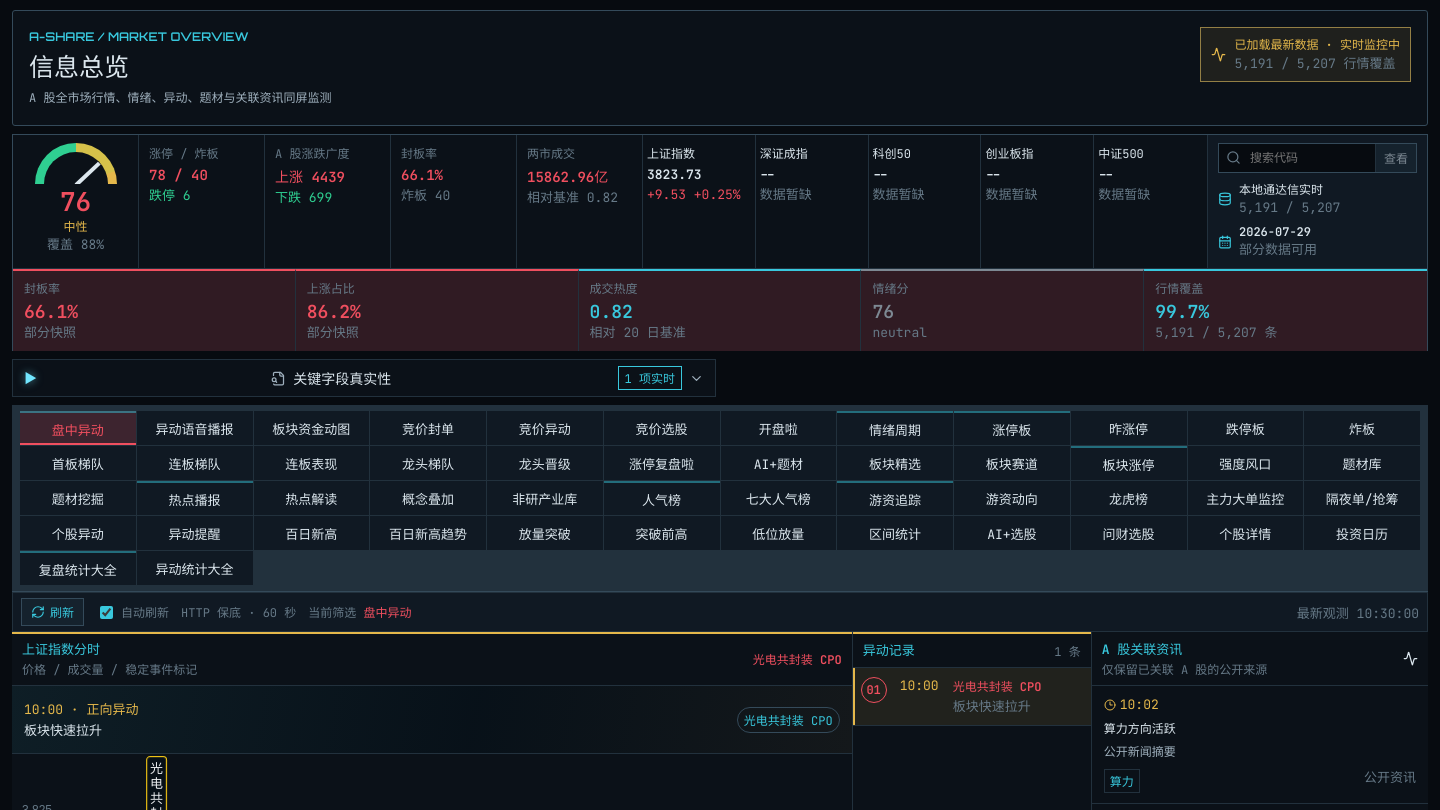
Test: MarketOverviewView › opens a real audio announcer for the voice broadcast menu
Expected: the text "本地通达信实时" is shown, x1=1239 y1=182 x2=1323 y2=198
Click the button "异动语音播报": click(195, 428) x1=137 y1=411 x2=253 y2=445
(page scrolled)
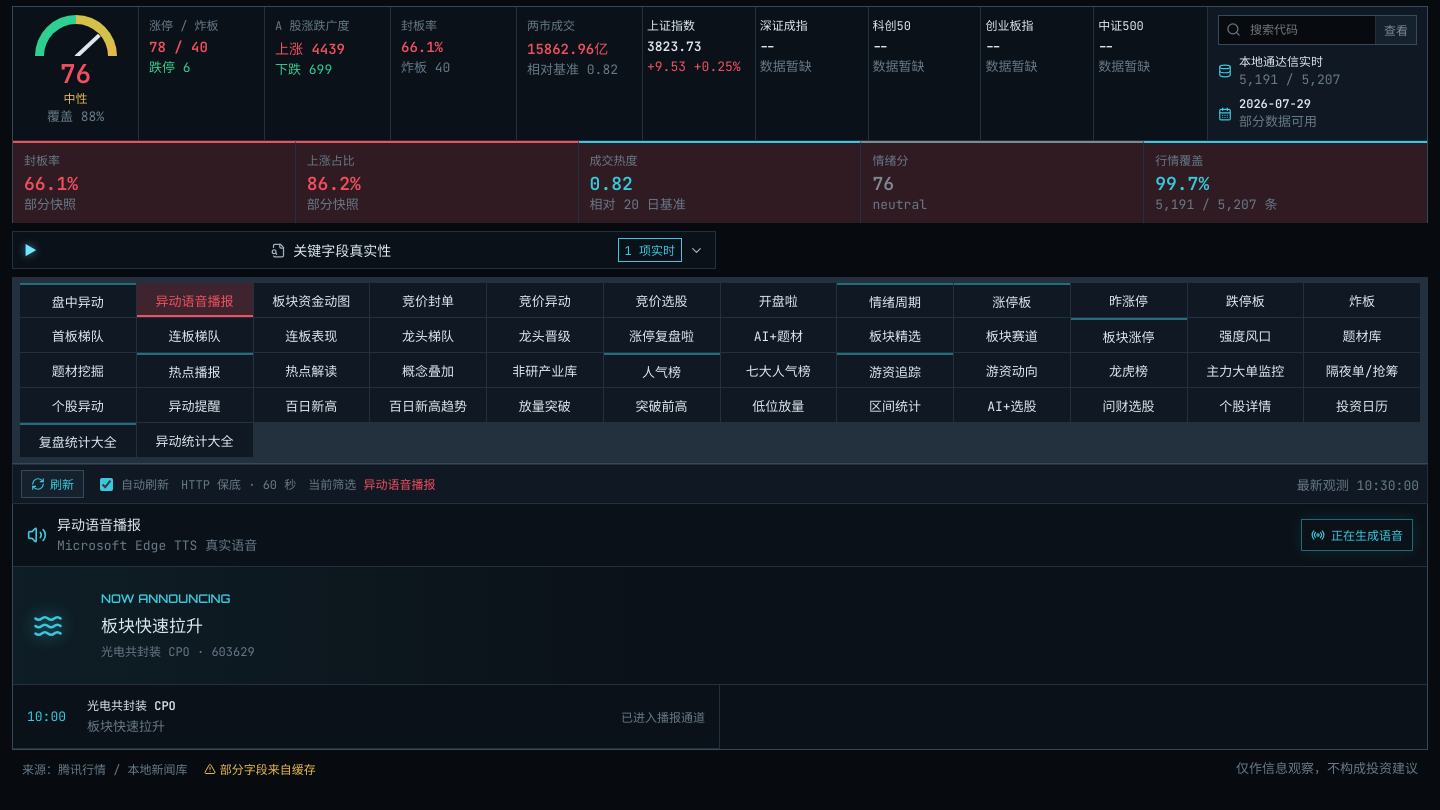
Expected: the element "异动语音播报" shows "真实语音", x1=57 y1=537 x2=257 y2=554
